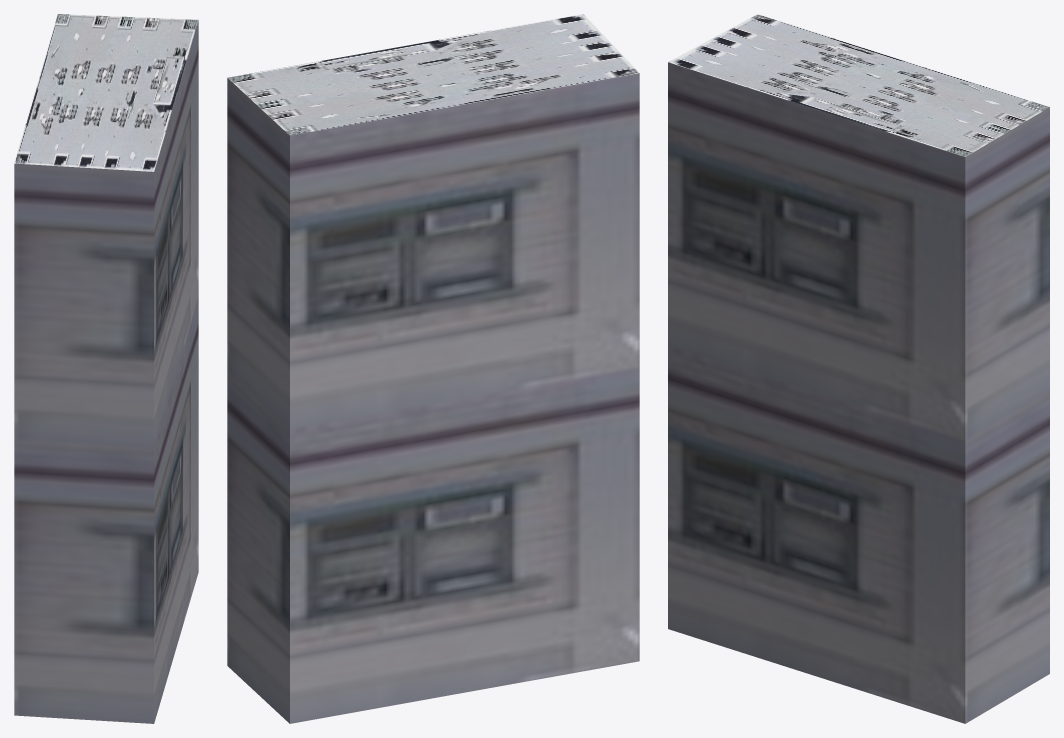
File: ResTex__4981.fbx
3 views of the same model, side by side, from view 1: azimuth 30°, elevation 25°; view 2: azimuth 150°, elevation 25°; view 3: azimuth 270°, elevation 25° (orthographic). The views are drawn at different scales.
Visible parts, largest first — view 1: CityEngineMaterial_1_m, CityEngineMaterial_8_m; view 2: CityEngineMaterial_1_m, CityEngineMaterial_8_m; view 3: CityEngineMaterial_1_m, CityEngineMaterial_8_m.
Part boxes in pixels (left/top/right/bottom): CityEngineMaterial_1_m: left=14, top=21, right=198, bottom=723; CityEngineMaterial_8_m: left=14, top=14, right=198, bottom=171; CityEngineMaterial_1_m: left=227, top=73, right=639, bottom=723; CityEngineMaterial_8_m: left=228, top=14, right=638, bottom=135; CityEngineMaterial_1_m: left=668, top=62, right=1049, bottom=723; CityEngineMaterial_8_m: left=668, top=14, right=1049, bottom=156.
Size of the model in its own units: 3.25 by 6 by 3.66.
Materials: 2 (2 with a texture image).
